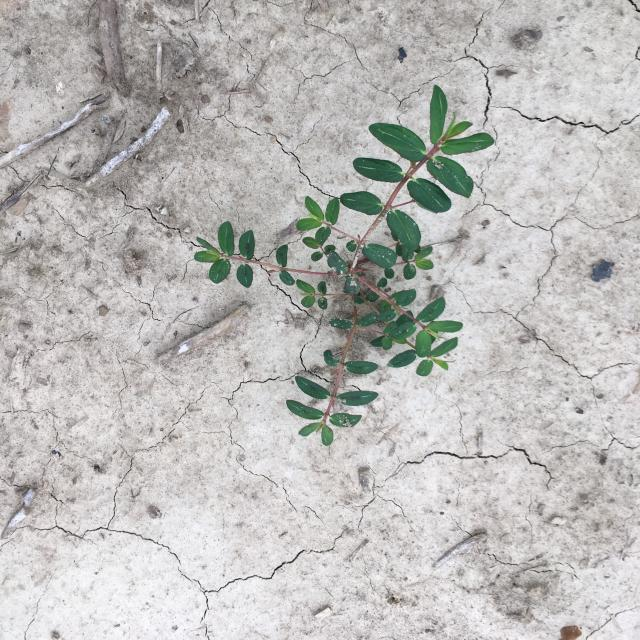SpottedSpurge: (194, 84, 494, 446)
